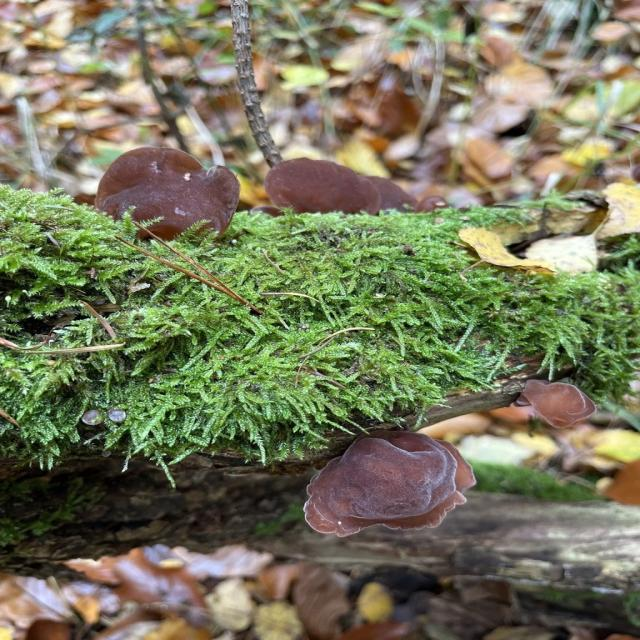Matang: (289, 427, 481, 539), (92, 140, 248, 246), (260, 151, 419, 217), (513, 375, 602, 433)
